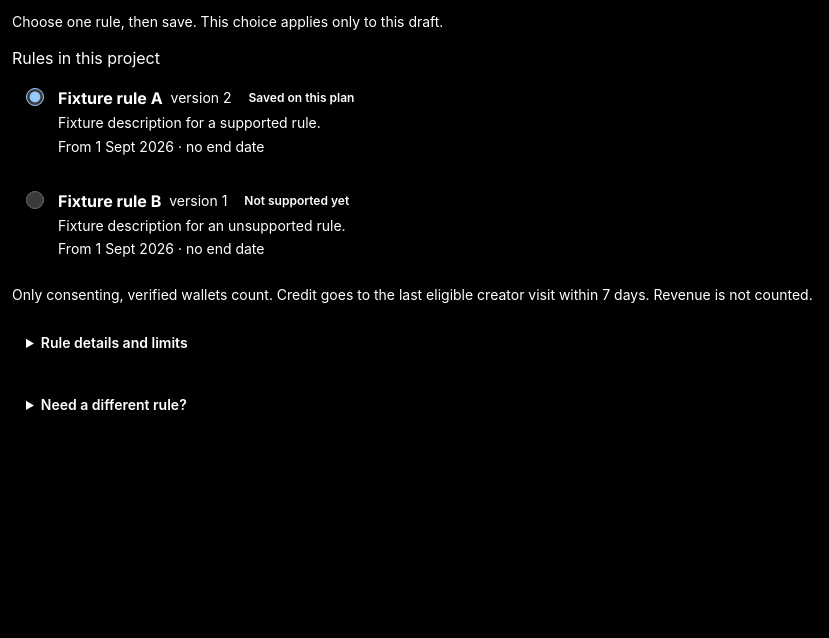
it: describes the selected rule from its own wording and only its supported facts
Click the heading "Rule details and limits": [114, 342] box [41, 334, 188, 351]
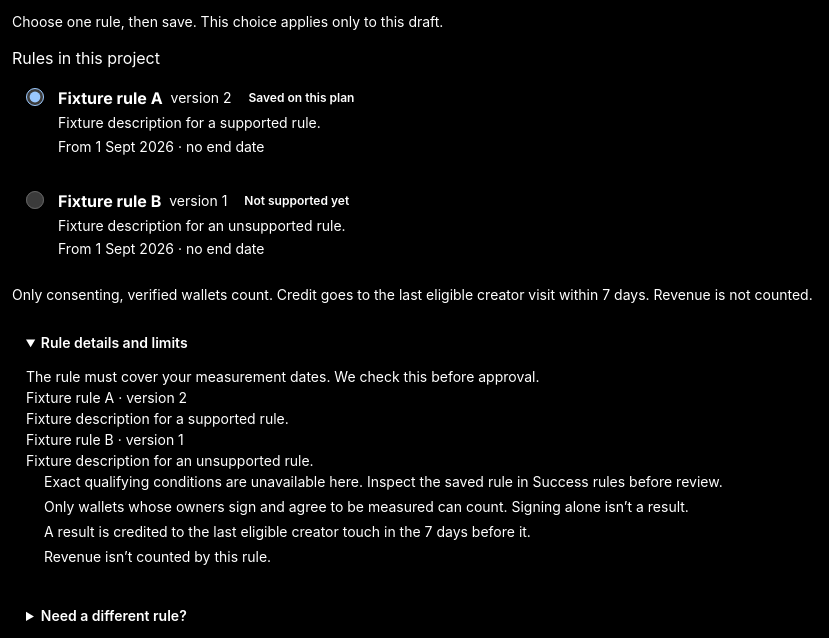
Now the heading "Fixture rule A · version 2" is shown, box [26, 389, 187, 406]
Now the list named "How this rule measures" shows "Signing alone isn’t a result.", box [44, 498, 689, 515]
Now the list named "How this rule measures" shows "A result is credited to the last eligible creator touch in the 7 days before it.", box [44, 523, 531, 540]
